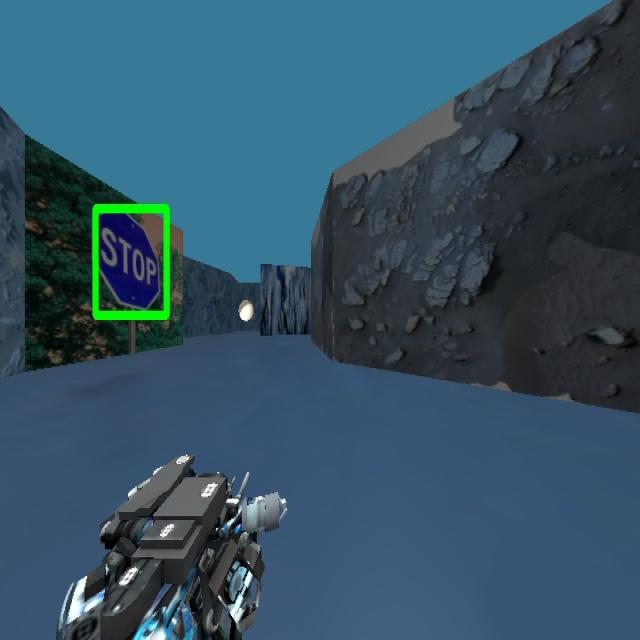Circle: (238, 299, 254, 321)
Stop_Sign: (90, 202, 170, 322)
